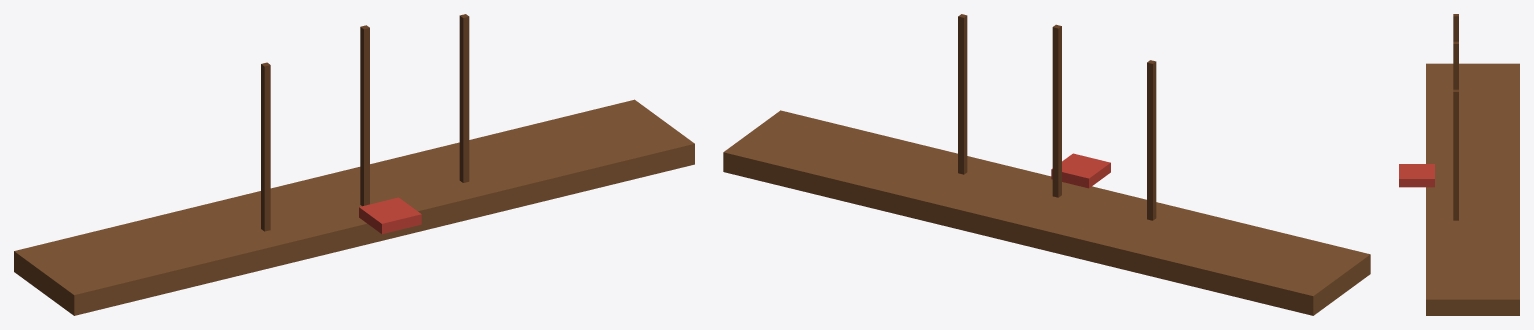
The model's file is experience-kit.glb.
3 renders of one model, left to right at view 1: azimuth 30°, elevation 25°; view 2: azimuth 150°, elevation 25°; view 3: azimuth 270°, elevation 25°, orthographic. The views are drawn at different scales.
Visible parts, largest first — view 1: workbench, right-rod, center-rod, left-rod, seal; view 2: workbench, center-rod, left-rod, right-rod, seal; view 3: workbench, seal, right-rod, center-rod, left-rod.
Part boxes in pixels (x1=…): workbench: x1=14, y1=99, x2=694, y2=315; right-rod: x1=459, y1=14, x2=469, y2=182; center-rod: x1=360, y1=25, x2=369, y2=206; left-rod: x1=261, y1=62, x2=270, y2=231; seal: x1=359, y1=197, x2=421, y2=234; workbench: x1=723, y1=110, x2=1370, y2=315; center-rod: x1=1052, y1=24, x2=1061, y2=197; left-rod: x1=1147, y1=60, x2=1156, y2=220; right-rod: x1=958, y1=14, x2=967, y2=174; seal: x1=1051, y1=153, x2=1110, y2=188; workbench: x1=1426, y1=63, x2=1519, y2=315; seal: x1=1399, y1=164, x2=1434, y2=187; right-rod: x1=1453, y1=89, x2=1458, y2=220; center-rod: x1=1453, y1=41, x2=1458, y2=89; left-rod: x1=1453, y1=14, x2=1458, y2=41.
Size of the model in its own units: 5 by 1.64 by 1.08.
